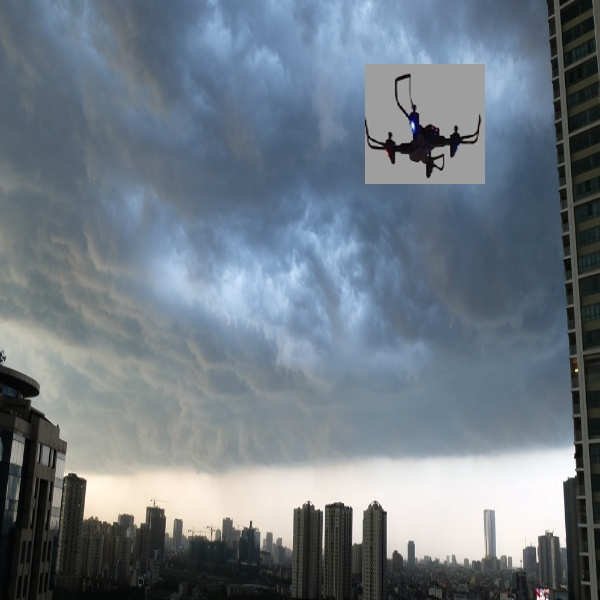drone: (364, 62, 484, 183)
